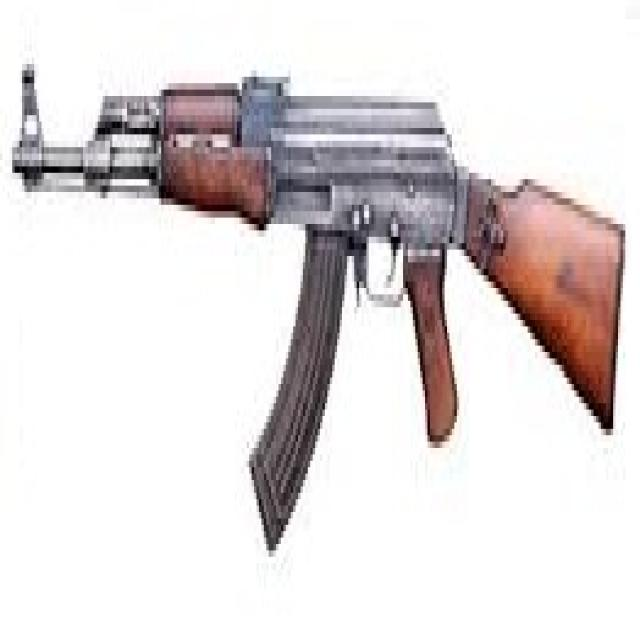rifle: (5, 46, 628, 576)
